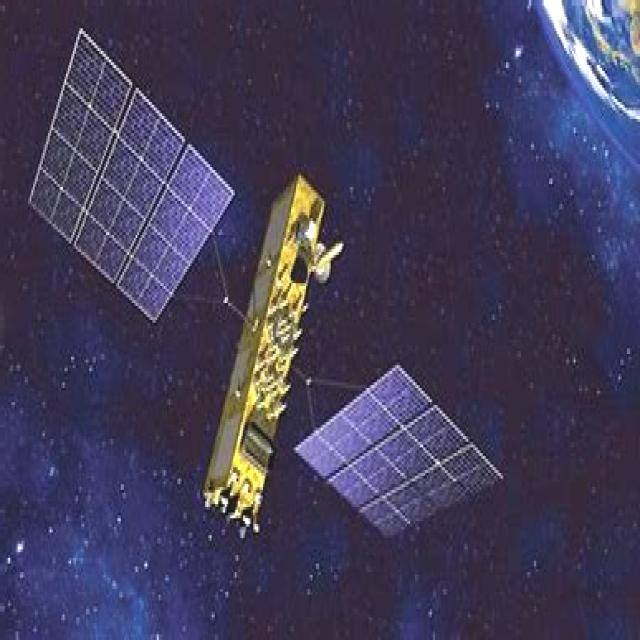satellite: (8, 32, 514, 588)
